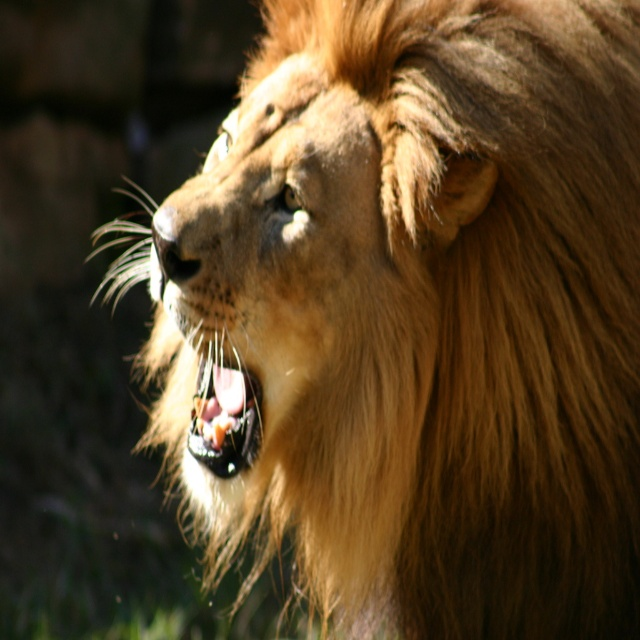Lion: (82, 0, 640, 639)
